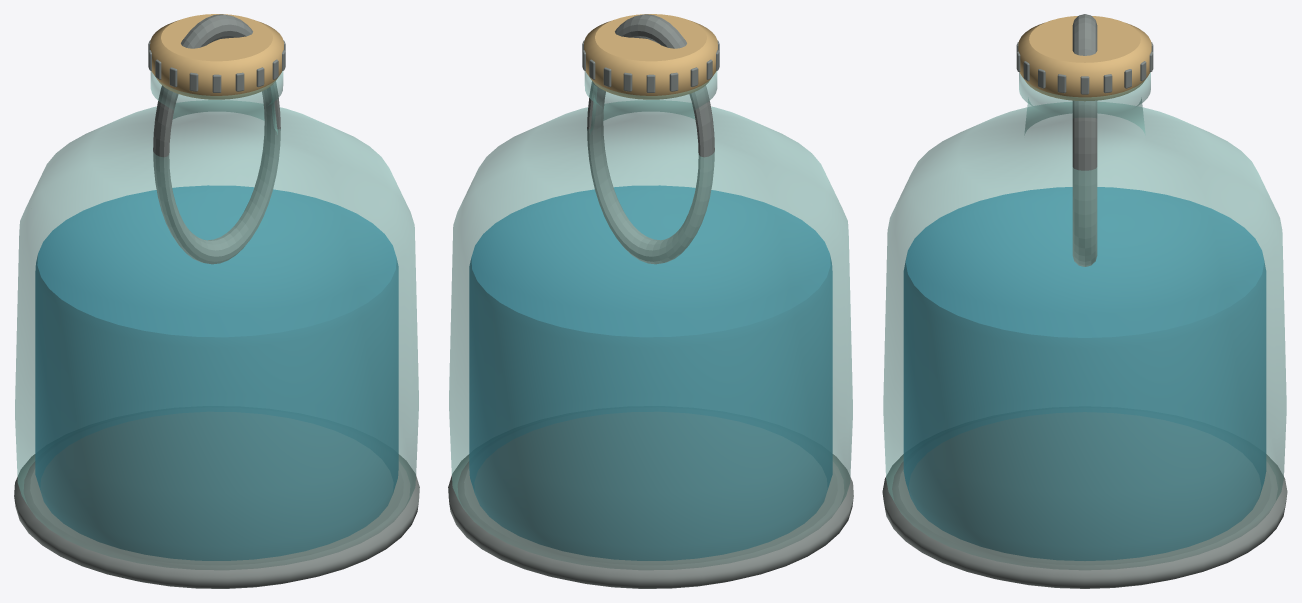
File: pump-water-jug.glb
3 renders of one model, left to right at view 1: azimuth 30°, elevation 25°; view 2: azimuth 150°, elevation 25°; view 3: azimuth 270°, elevation 25°, orthographic.
Visible parts, largest first — view 1: Rolled lip, shoulder, and thick foot, Visible water fill, Tinned steel, Knurled cap; view 2: Rolled lip, shoulder, and thick foot, Visible water fill, Tinned steel, Knurled cap; view 3: Rolled lip, shoulder, and thick foot, Visible water fill, Tinned steel, Knurled cap.
Part boxes in pixels (x1,y1,x2,y2): Rolled lip, shoulder, and thick foot: (15, 71, 418, 569); Visible water fill: (35, 185, 398, 560); Tinned steel: (14, 14, 419, 588); Knurled cap: (150, 14, 283, 99); Rolled lip, shoulder, and thick foot: (449, 71, 852, 569); Visible water fill: (469, 185, 832, 560); Tinned steel: (448, 14, 853, 588); Knurled cap: (584, 14, 717, 99); Rolled lip, shoulder, and thick foot: (883, 72, 1286, 569); Visible water fill: (903, 187, 1266, 560); Tinned steel: (882, 14, 1287, 588); Knurled cap: (1018, 16, 1151, 101).
Size of the model in its own units: 0.558 by 0.754 by 0.558.
